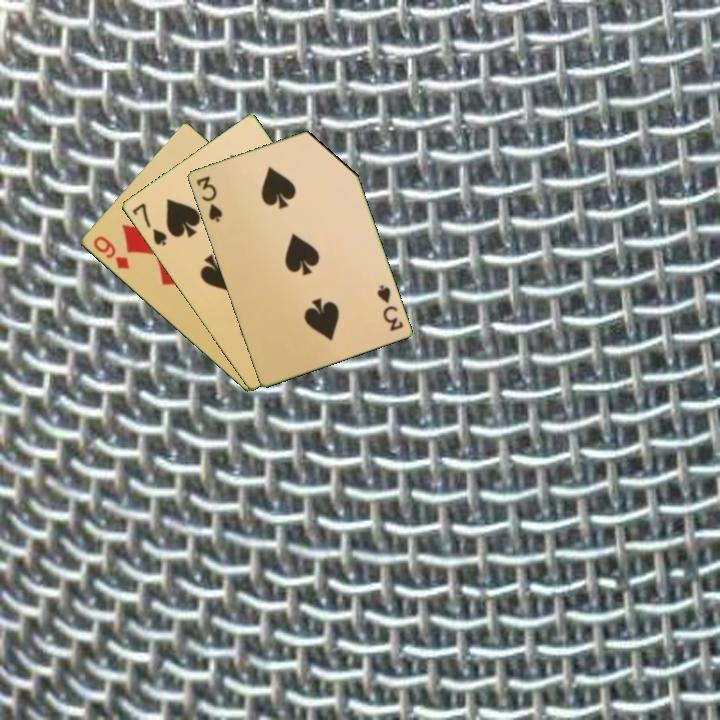3s: (192, 172, 225, 225), (373, 281, 406, 334)
7s: (128, 199, 170, 249)
9d: (89, 232, 132, 272)
